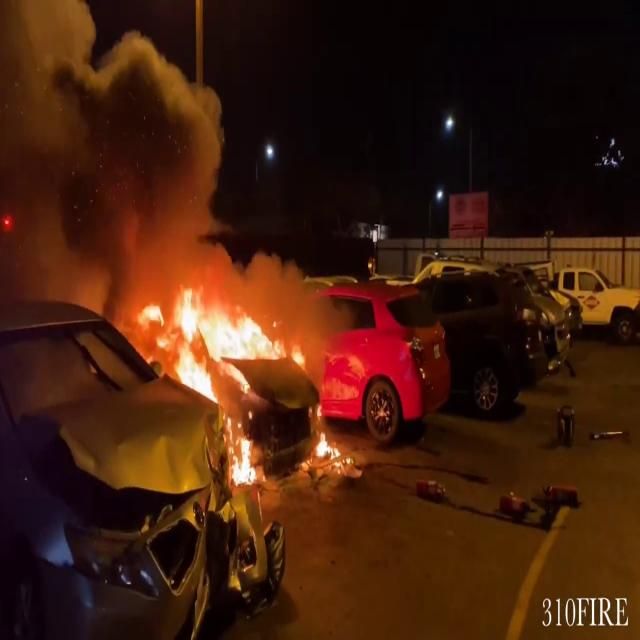Fire: (137, 283, 270, 496), (228, 429, 262, 494), (310, 426, 350, 474)
Smoke: (0, 3, 242, 300)
